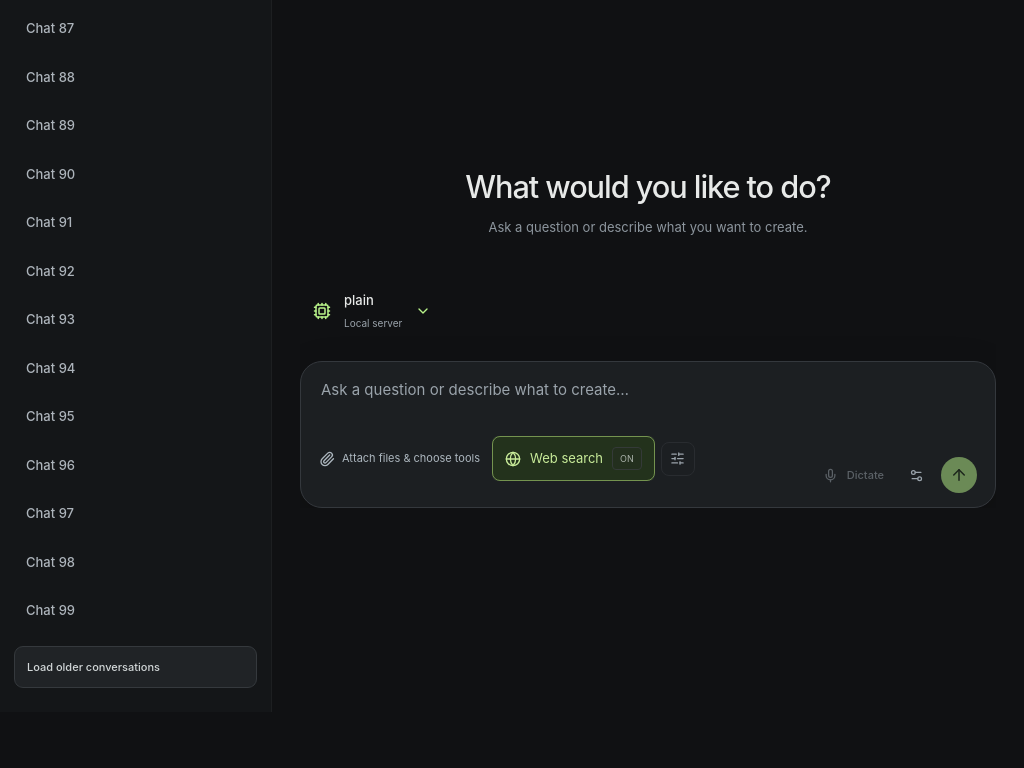
Test: loads older conversations with a cursor and searches saved message history
(page scrolled)
Check: the link with aria-label "Inspect Chat 99" is shown, box top-left (26, 602), bottom-right (75, 618)
Click the button "Load older conversations" at (136, 667), box top-left (14, 646), bottom-right (257, 688)
(page scrolled)
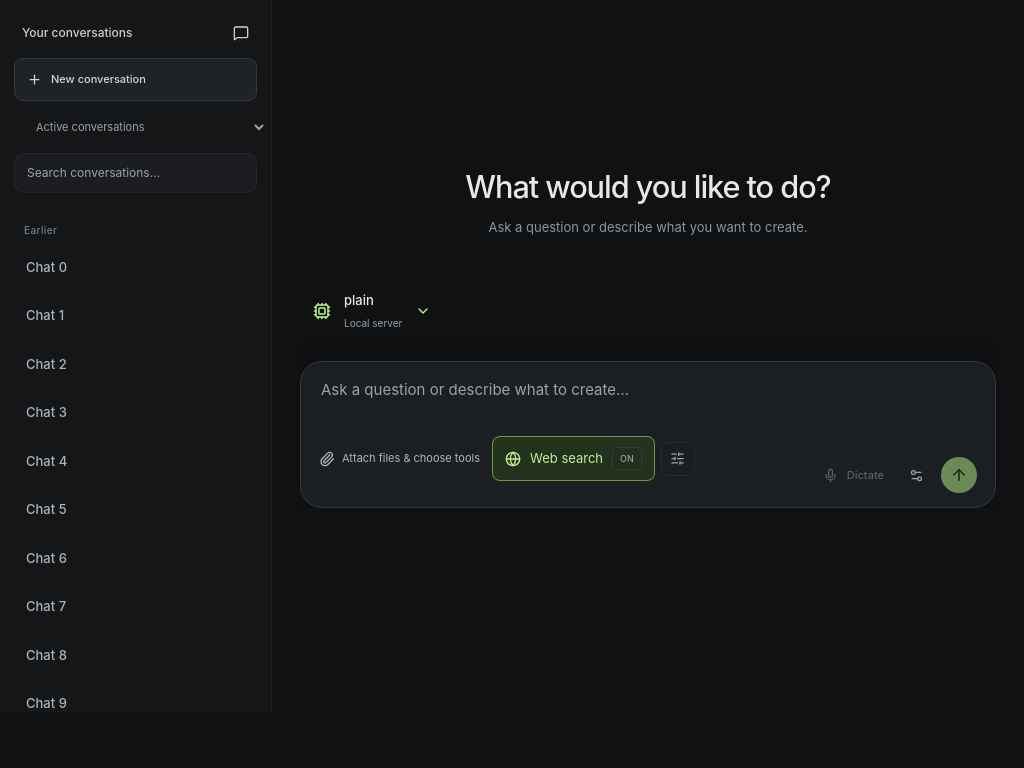
Check: the button "Load older conversations" is gone
Type "telescope" into the search field labelled "Search conversations" at (136, 172), box top-left (14, 152), bottom-right (257, 192)
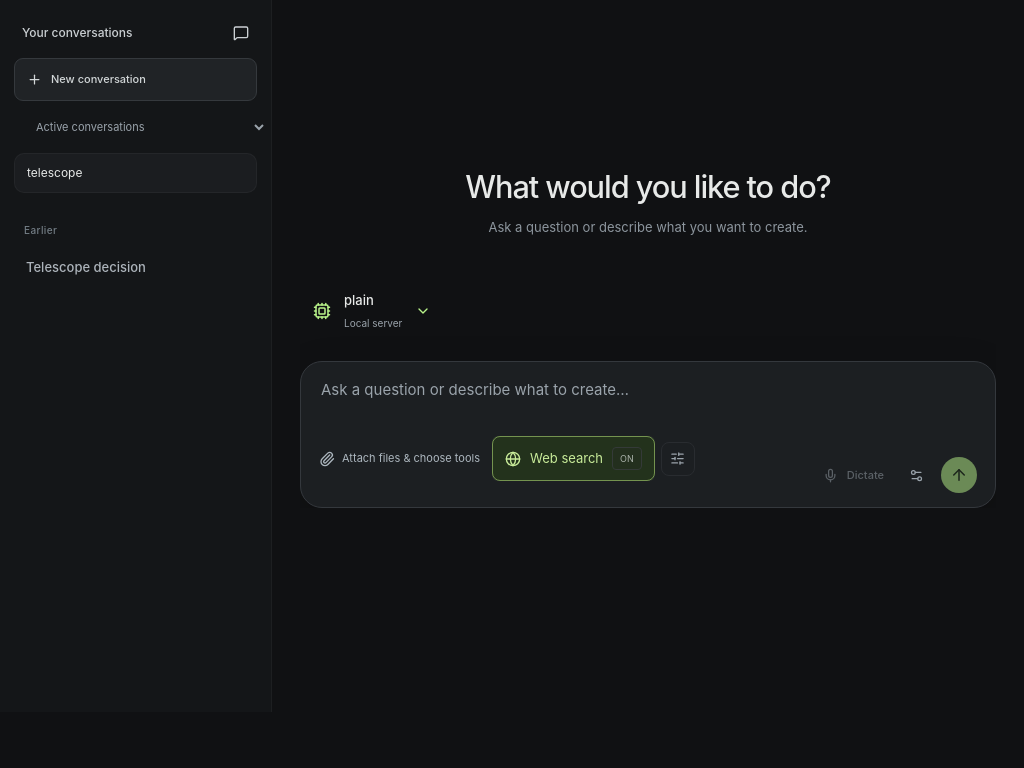
Check: the link with aria-label "Inspect Telescope decision" is shown, box top-left (26, 258), bottom-right (146, 274)
